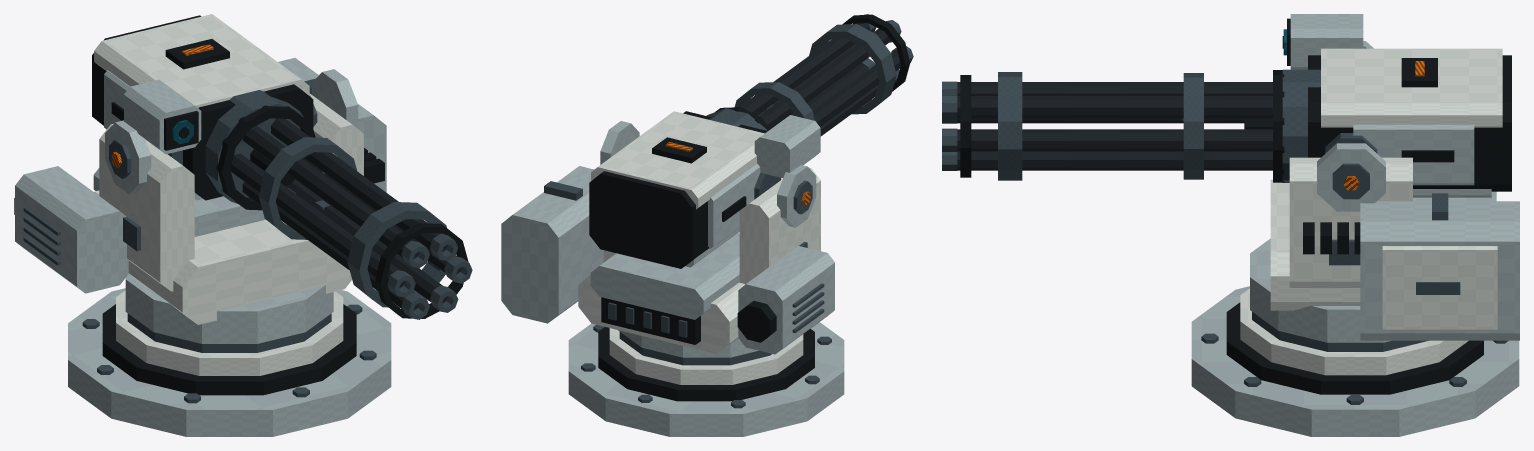
The model's file is ciws_textured.glb.
3 views of the same model, side by side, from view 1: azimuth 30°, elevation 25°; view 2: azimuth 150°, elevation 25°; view 3: azimuth 270°, elevation 25° (orthographic). The views are drawn at different scales.
Parts seen in each view (by area): view 1: CIWS_Textured_00_FIXED_BASE, CIWS_Textured_06_SIX_BARREL_ROTOR, CIWS_Textured_01_TURNTABLE, CIWS_Textured_04_GUN_HOUSING, CIWS_Textured_02_FORK, CIWS_Textured_03_AMMO_AND_DRIVE, CIWS_Textured_05_OPTICAL_POD; view 2: CIWS_Textured_00_FIXED_BASE, CIWS_Textured_04_GUN_HOUSING, CIWS_Textured_03_AMMO_AND_DRIVE, CIWS_Textured_01_TURNTABLE, CIWS_Textured_06_SIX_BARREL_ROTOR, CIWS_Textured_02_FORK, CIWS_Textured_05_OPTICAL_POD; view 3: CIWS_Textured_00_FIXED_BASE, CIWS_Textured_06_SIX_BARREL_ROTOR, CIWS_Textured_04_GUN_HOUSING, CIWS_Textured_03_AMMO_AND_DRIVE, CIWS_Textured_02_FORK, CIWS_Textured_01_TURNTABLE, CIWS_Textured_05_OPTICAL_POD.
Part boxes in pixels (left/top/right/bottom): CIWS_Textured_00_FIXED_BASE: left=68, top=288, right=391, bottom=436; CIWS_Textured_06_SIX_BARREL_ROTOR: left=230, top=118, right=472, bottom=319; CIWS_Textured_01_TURNTABLE: left=93, top=168, right=352, bottom=343; CIWS_Textured_04_GUN_HOUSING: left=92, top=14, right=317, bottom=210; CIWS_Textured_02_FORK: left=99, top=69, right=363, bottom=291; CIWS_Textured_03_AMMO_AND_DRIVE: left=14, top=58, right=386, bottom=293; CIWS_Textured_05_OPTICAL_POD: left=124, top=79, right=201, bottom=154; CIWS_Textured_00_FIXED_BASE: left=568, top=322, right=844, bottom=436; CIWS_Textured_04_GUN_HOUSING: left=589, top=107, right=781, bottom=268; CIWS_Textured_03_AMMO_AND_DRIVE: left=501, top=166, right=834, bottom=354; CIWS_Textured_01_TURNTABLE: left=578, top=232, right=758, bottom=357; CIWS_Textured_06_SIX_BARREL_ROTOR: left=734, top=14, right=913, bottom=136; CIWS_Textured_02_FORK: left=600, top=121, right=820, bottom=284; CIWS_Textured_05_OPTICAL_POD: left=754, top=115, right=820, bottom=178; CIWS_Textured_00_FIXED_BASE: left=1191, top=286, right=1519, bottom=436; CIWS_Textured_06_SIX_BARREL_ROTOR: left=942, top=72, right=1272, bottom=180; CIWS_Textured_04_GUN_HOUSING: left=1273, top=48, right=1511, bottom=197; CIWS_Textured_03_AMMO_AND_DRIVE: left=1303, top=193, right=1519, bottom=340; CIWS_Textured_02_FORK: left=1289, top=41, right=1412, bottom=287; CIWS_Textured_01_TURNTABLE: left=1250, top=179, right=1496, bottom=342; CIWS_Textured_05_OPTICAL_POD: left=1282, top=14, right=1363, bottom=69.
Bounding box in the file's own units: 1.86 × 1.67 × 2.86.
Materials: 1 (1 with a texture image).
